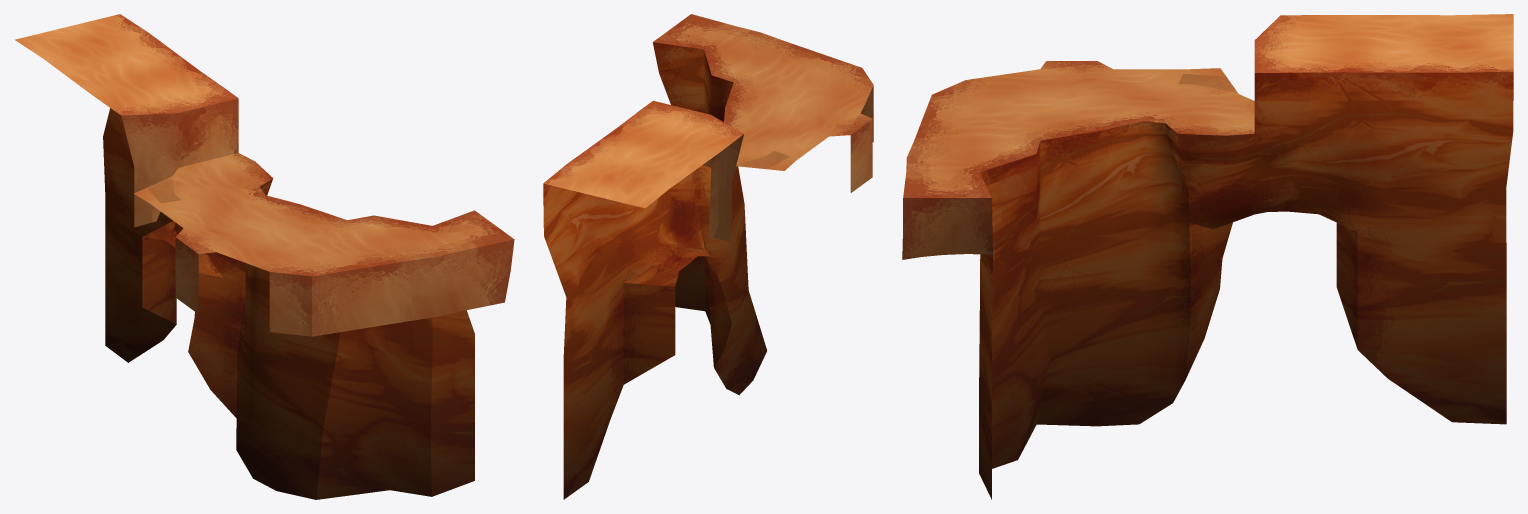
The model's file is path_05.fbx.
3 views of the same model, side by side, from view 1: azimuth 30°, elevation 25°; view 2: azimuth 150°, elevation 25°; view 3: azimuth 270°, elevation 25° (orthographic). The views are drawn at different scales.
Visible parts, largest first — view 1: path_05; view 2: path_05; view 3: path_05.
Boxes of the visible parts, x1,y1,x2,y2 form: path_05: [14, 14, 514, 499]; path_05: [543, 14, 873, 499]; path_05: [902, 14, 1513, 499].
Bounding box in the file's own units: 27.65 × 34.95 × 52.09.
Materials: 1 (1 with a texture image).
